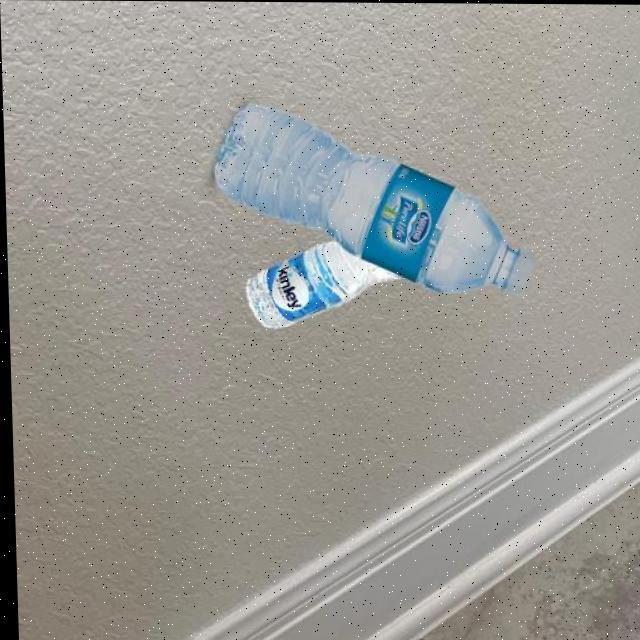bottle: (208, 100, 533, 297), (241, 238, 402, 330)
